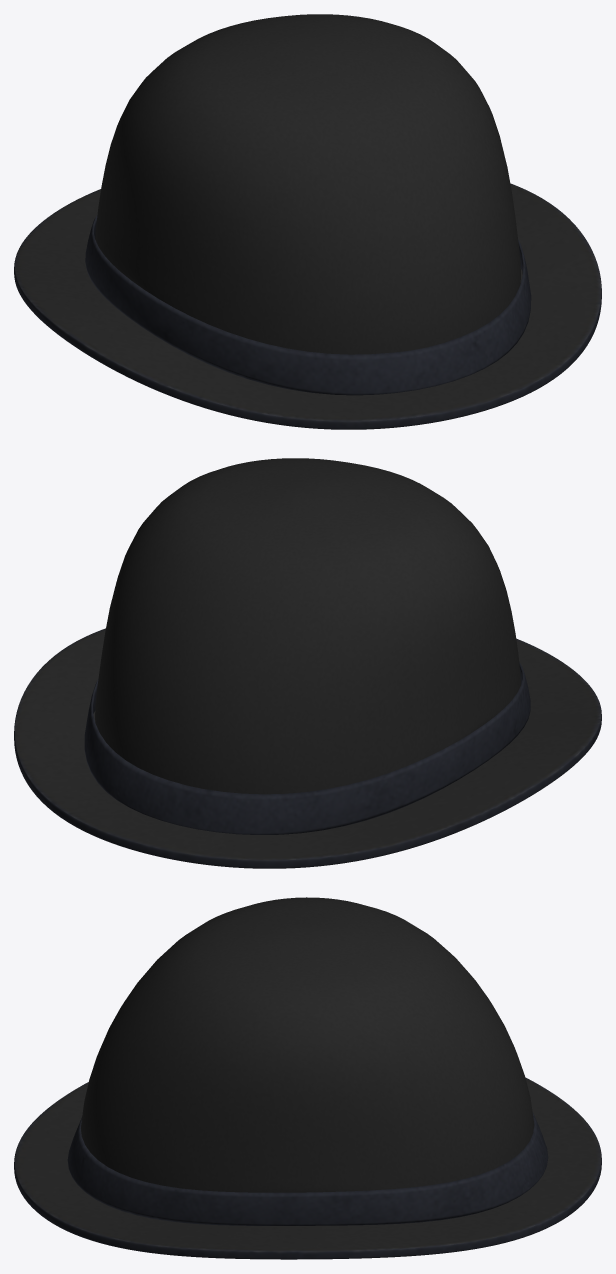
The model's file is chapchap2.glb.
The picture shows the model from 3 angles, top to bottom: view 1: azimuth 30°, elevation 25°; view 2: azimuth 150°, elevation 25°; view 3: azimuth 270°, elevation 25°; orthographic projection. The views are drawn at different scales.
Visible parts, largest first — view 1: Sphere003, Cylinder002, Object002; view 2: Sphere003, Cylinder002, Object002; view 3: Sphere003, Cylinder002, Object002.
Part boxes in pixels (x1,y1,x2,y2): Sphere003: (95, 14, 520, 354); Cylinder002: (14, 183, 601, 429); Object002: (85, 214, 531, 395); Sphere003: (95, 458, 520, 794); Cylinder002: (14, 628, 601, 868); Object002: (84, 662, 530, 834); Sphere003: (81, 897, 534, 1192); Cylinder002: (14, 1077, 601, 1259); Object002: (67, 1112, 548, 1225).
Bounding box in the file's own units: 0.0766 × 0.0376 × 0.084.
3 materials, 3 textured.
